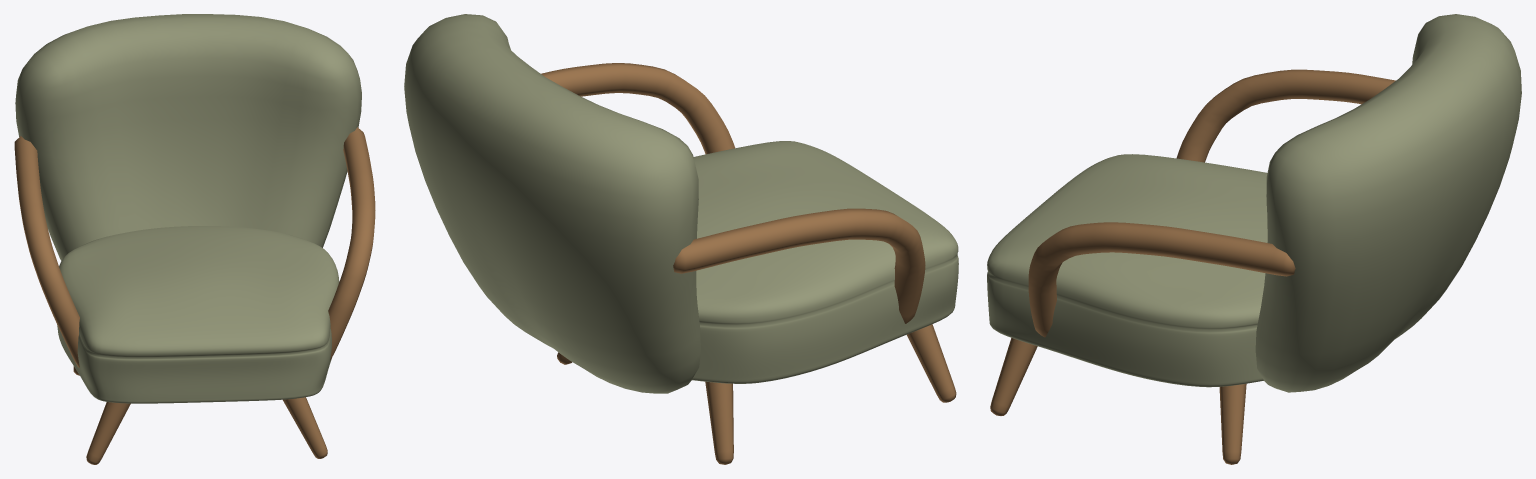
The model's file is Arm Chair.glb.
3 renders of one model, left to right at view 1: azimuth 30°, elevation 25°; view 2: azimuth 150°, elevation 25°; view 3: azimuth 270°, elevation 25°, orthographic. The views are drawn at different scales.
Visible parts, largest first — view 1: Cube.027, Plane.006, Plane.007, Plane.010; view 2: Cube.027, Plane.006, Plane.007, Plane.010; view 3: Cube.027, Plane.006, Plane.007, Plane.010.
Part boxes in pixels (x1,y1,x2,y2): Cube.027: [15, 14, 361, 260]; Plane.006: [57, 226, 339, 403]; Plane.007: [14, 127, 375, 367]; Plane.010: [73, 366, 327, 464]; Cube.027: [404, 14, 700, 393]; Plane.006: [692, 141, 958, 383]; Plane.007: [541, 63, 925, 323]; Plane.010: [557, 324, 956, 464]; Cube.027: [1255, 14, 1521, 392]; Plane.006: [987, 154, 1267, 387]; Plane.007: [1028, 69, 1395, 337]; Plane.010: [990, 338, 1246, 464].
Size of the model in its own units: 2.65 by 2.13 by 2.81.
